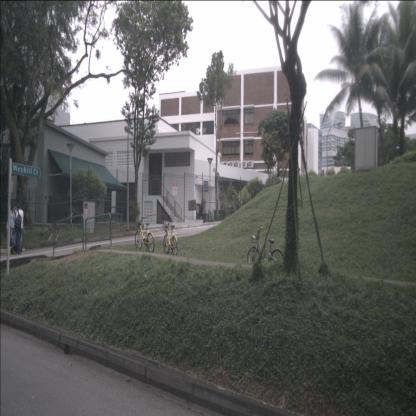human-pedestrian-adult: (6, 204, 16, 255), (14, 204, 24, 255)
vehicle-bicycle: (247, 226, 285, 272), (134, 217, 154, 253), (164, 221, 178, 257)
